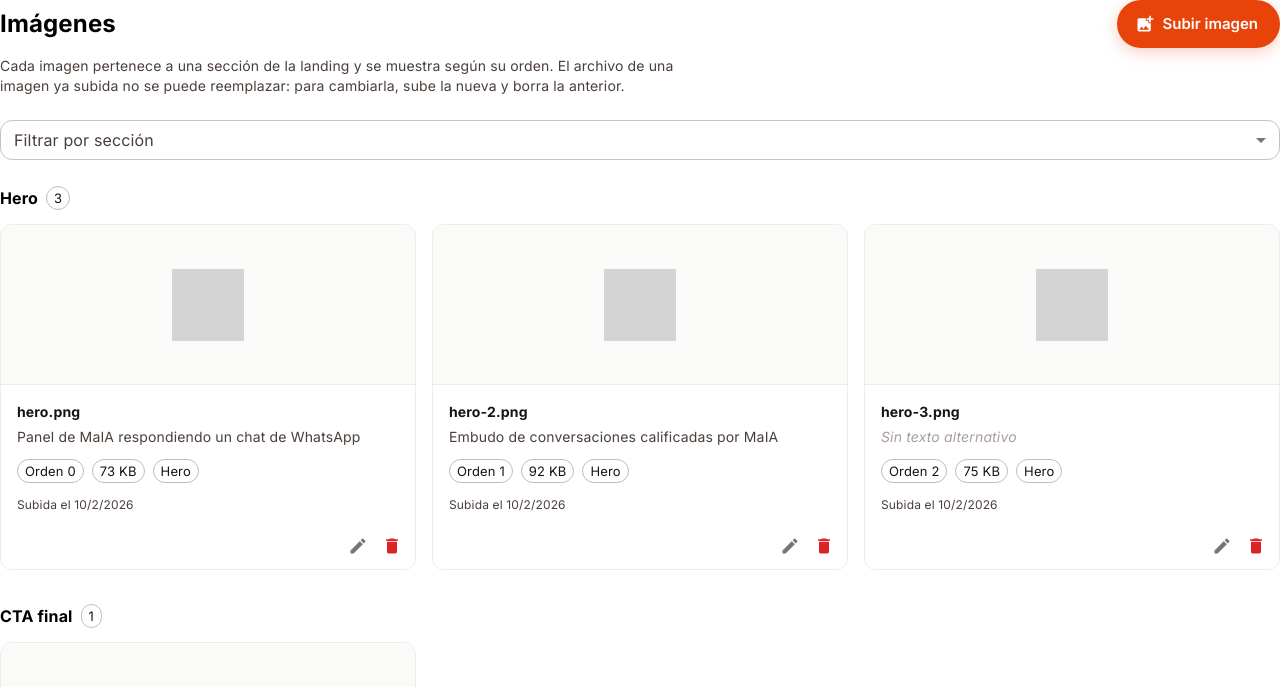
Test: ImagesGrid — edición › envía PATCH /api/admin/images/:id con JSON de solo alt, orden y seccion
Expected: the heading "hero.png" is shown, [17,403,80,420]
Click the button named "Editar hero.png" at (358, 546), box [343,531,373,561]
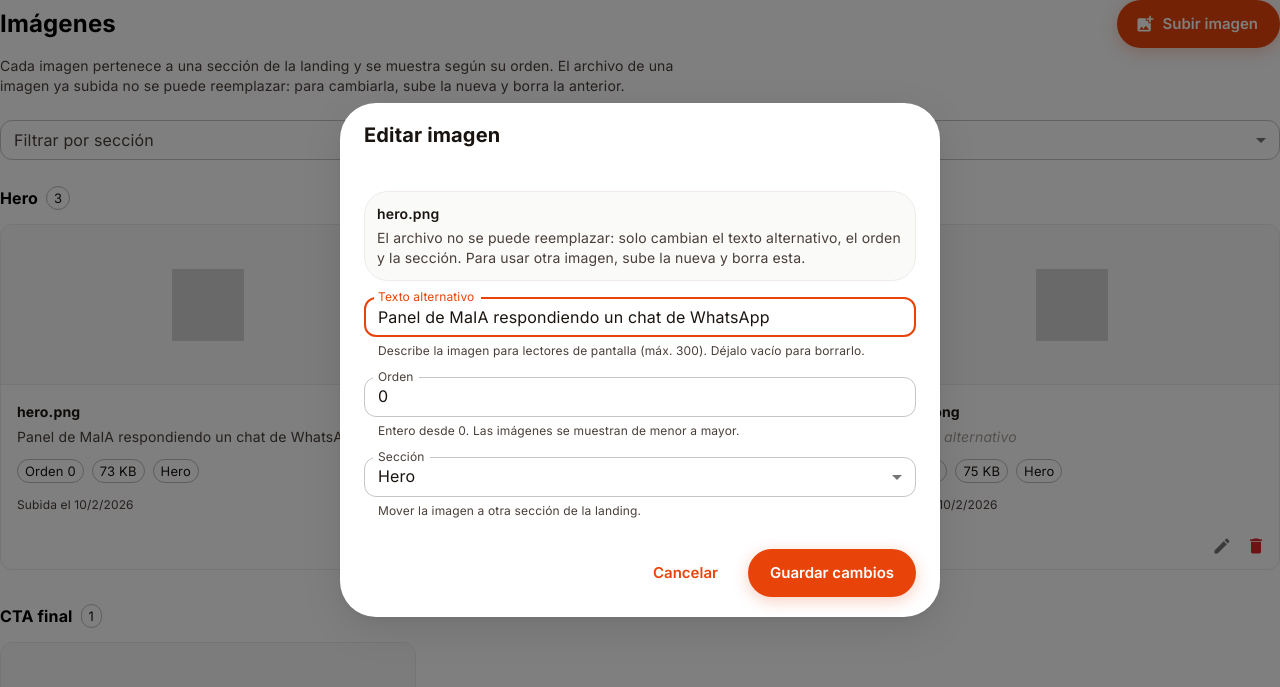
Result: the text "El archivo no se puede reemplazar" is shown at [377,229,901,266]
Replace the text in the field labelled "Texto alternativo" with "Alt corregido" at (640, 317), box [364,297,916,337]
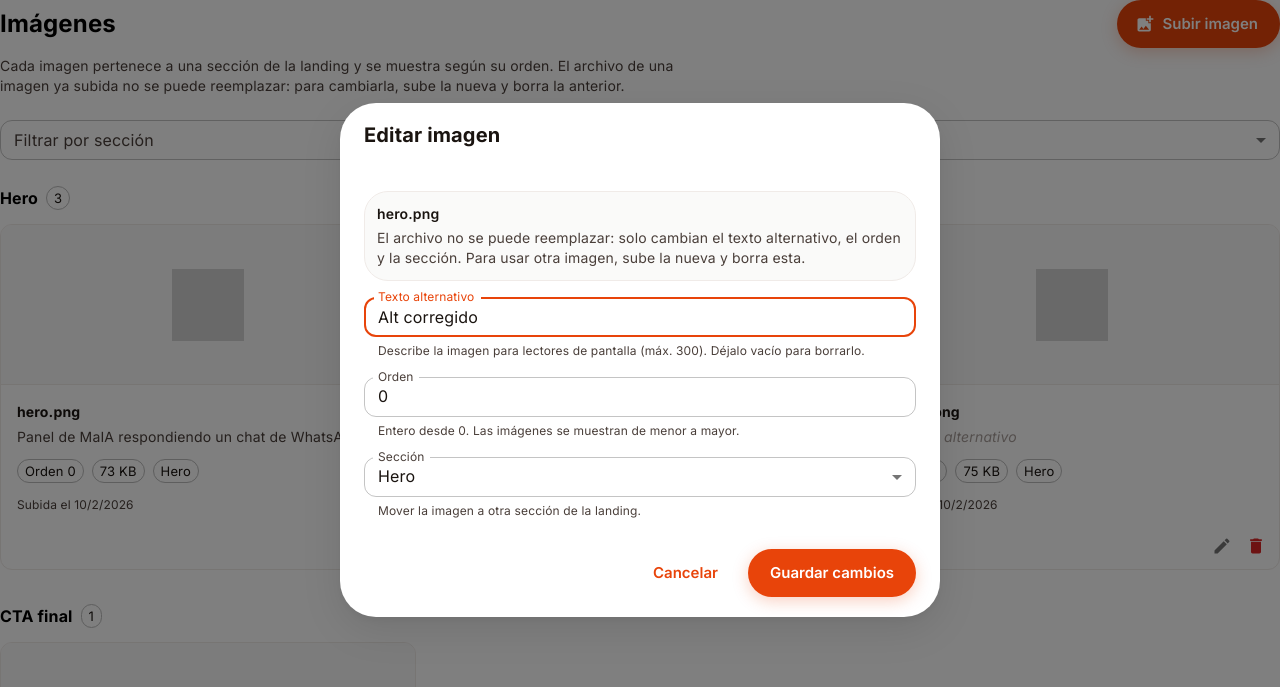
Replace the text in the field labelled "Orden" with "7" at (640, 397), box [364,377,916,417]
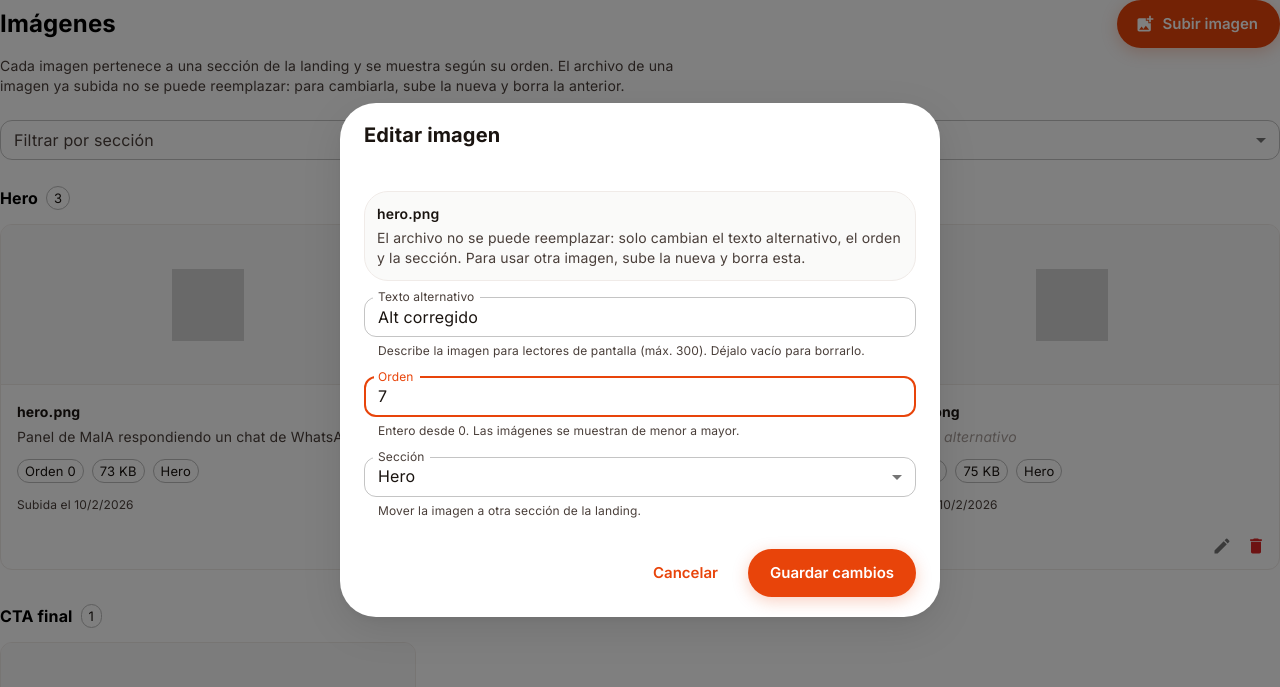
Click the button "Guardar cambios" at (832, 573), box [748,549,916,597]
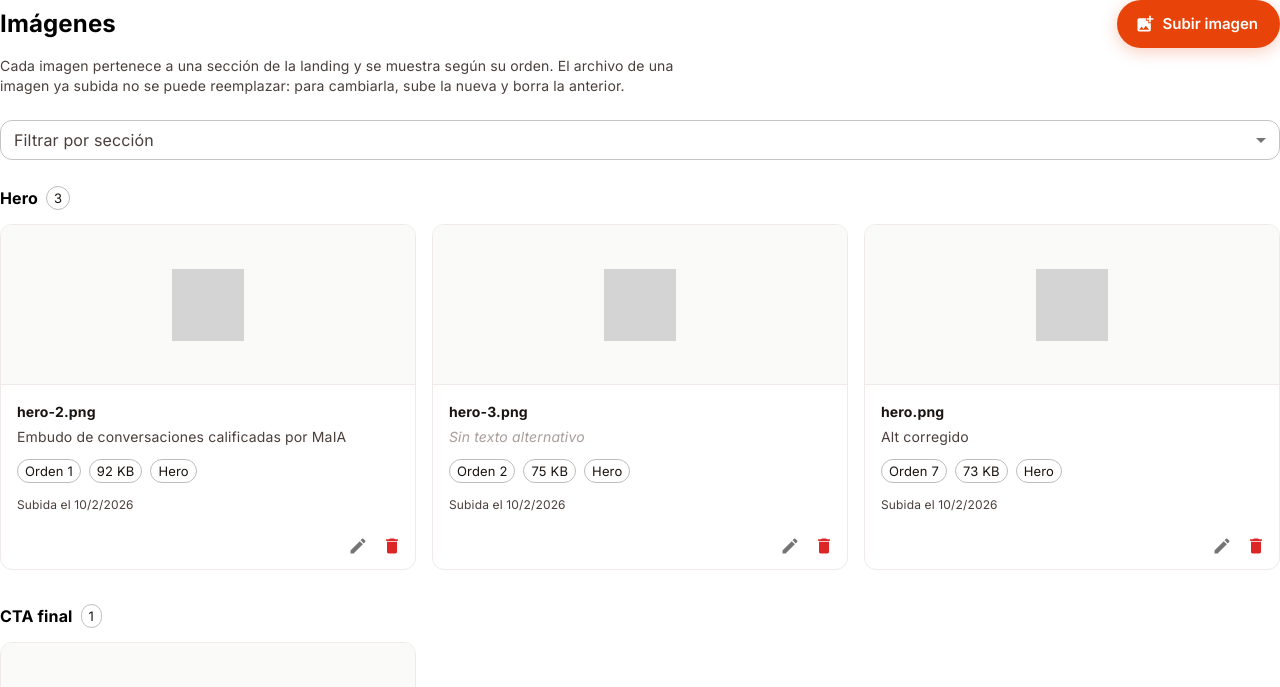
Result: the text "Alt corregido" is shown at [881,428,969,445]
Result: the text "Orden 7" is shown at [889,463,939,479]
